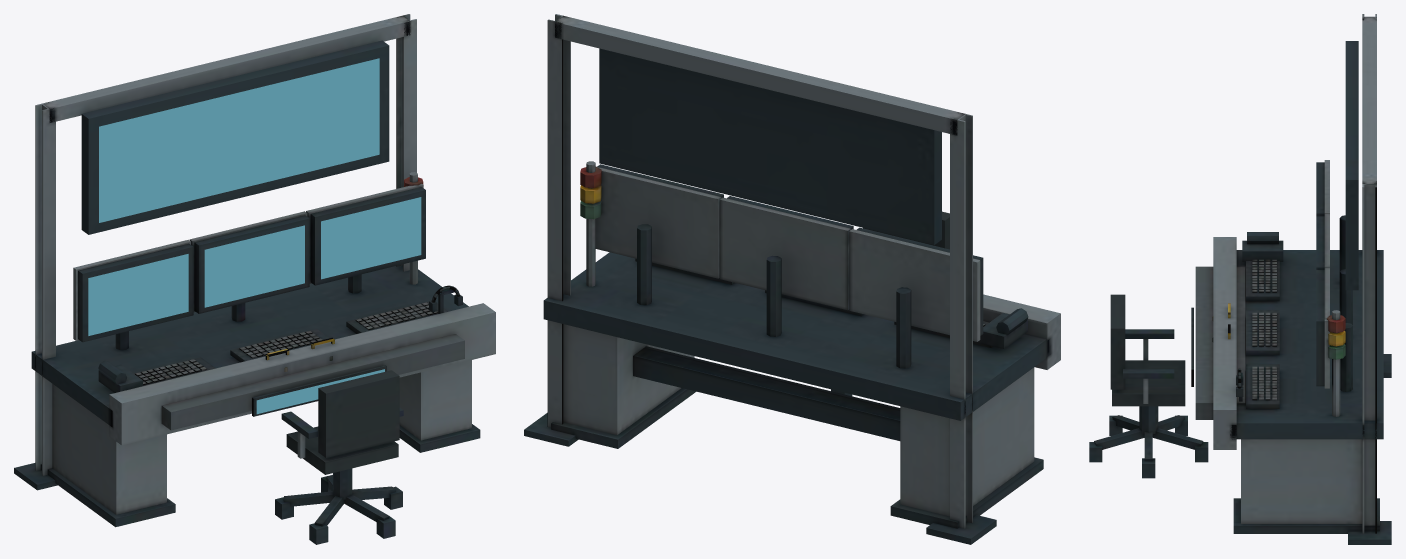
Rendered from engineering_consoles.glb.
3 views of the same model, side by side, from view 1: azimuth 30°, elevation 25°; view 2: azimuth 150°, elevation 25°; view 3: azimuth 270°, elevation 25° (orthographic). The views are drawn at different scales.
Visible parts, largest first — view 1: chassis.001, screen_station_builder_overhead, screen_station_builder_0, screen_station_builder_1, screen_station_builder_2, screen_station_builder_nameplate; view 2: chassis.001; view 3: chassis.001.
Boxes of the visible parts, x1=… form: chassis.001: x1=14, y1=14, x2=495, y2=544; screen_station_builder_overhead: x1=99, y1=58, x2=379, y2=222; screen_station_builder_0: x1=88, y1=254, x2=188, y2=335; screen_station_builder_1: x1=204, y1=225, x2=304, y2=307; screen_station_builder_2: x1=321, y1=197, x2=421, y2=279; screen_station_builder_nameplate: x1=256, y1=369, x2=384, y2=414; chassis.001: x1=524, y1=14, x2=1060, y2=544; chassis.001: x1=1089, y1=14, x2=1391, y2=544.
Size of the model in its own units: 3 by 2.66 by 2.07.
Materials: 2 (1 with a texture image).
